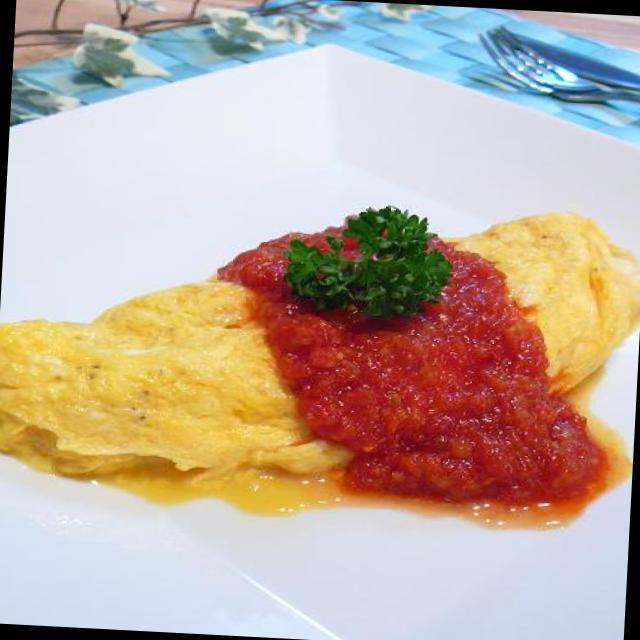Omelet: (0, 162, 640, 546)
